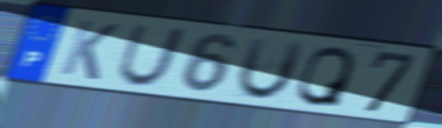6: (178, 32, 239, 95)
7: (363, 49, 416, 114)
K: (57, 18, 122, 84)
Q: (294, 44, 358, 109)
U: (114, 22, 189, 89), (235, 35, 308, 103)
